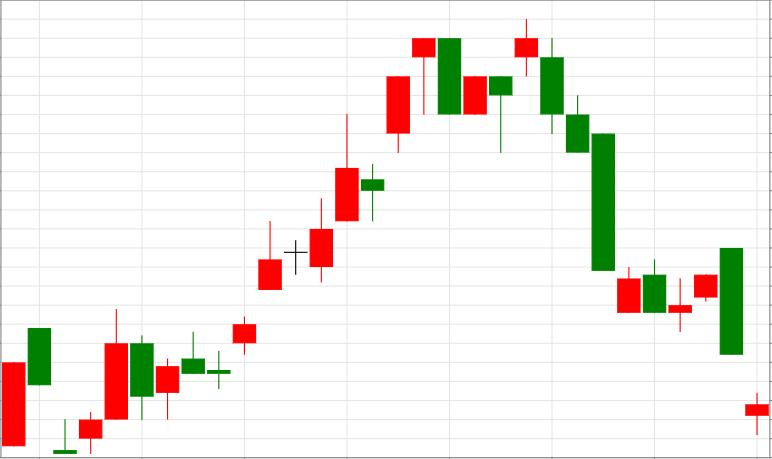bearish_engulfing_fall: (233, 38, 462, 355)
